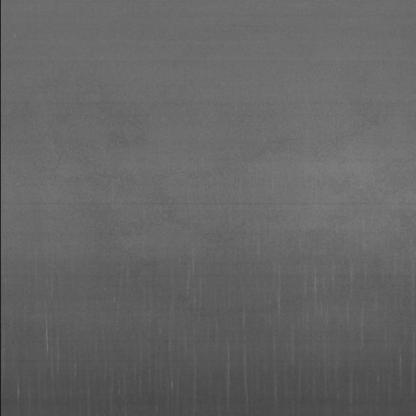waist_folding: (26, 242, 365, 394)
